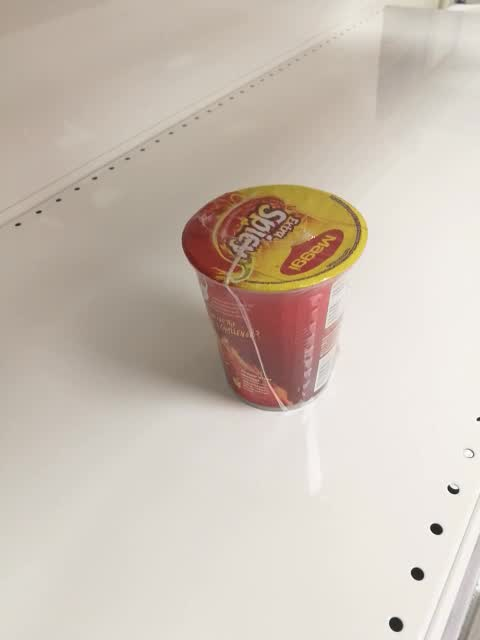maggi: (180, 183, 369, 413)
